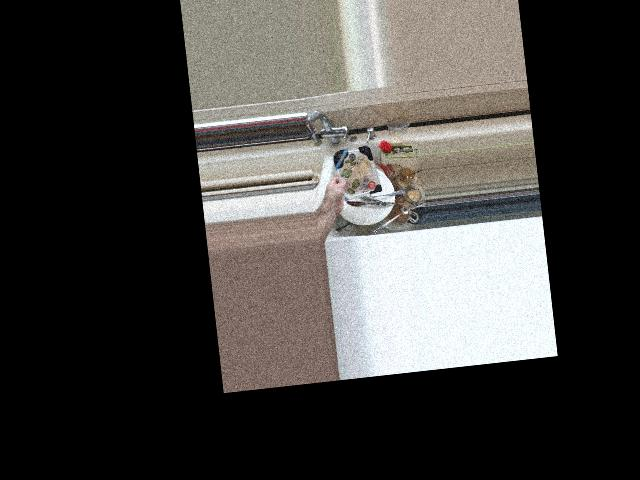cheese: (319, 141, 382, 211)
